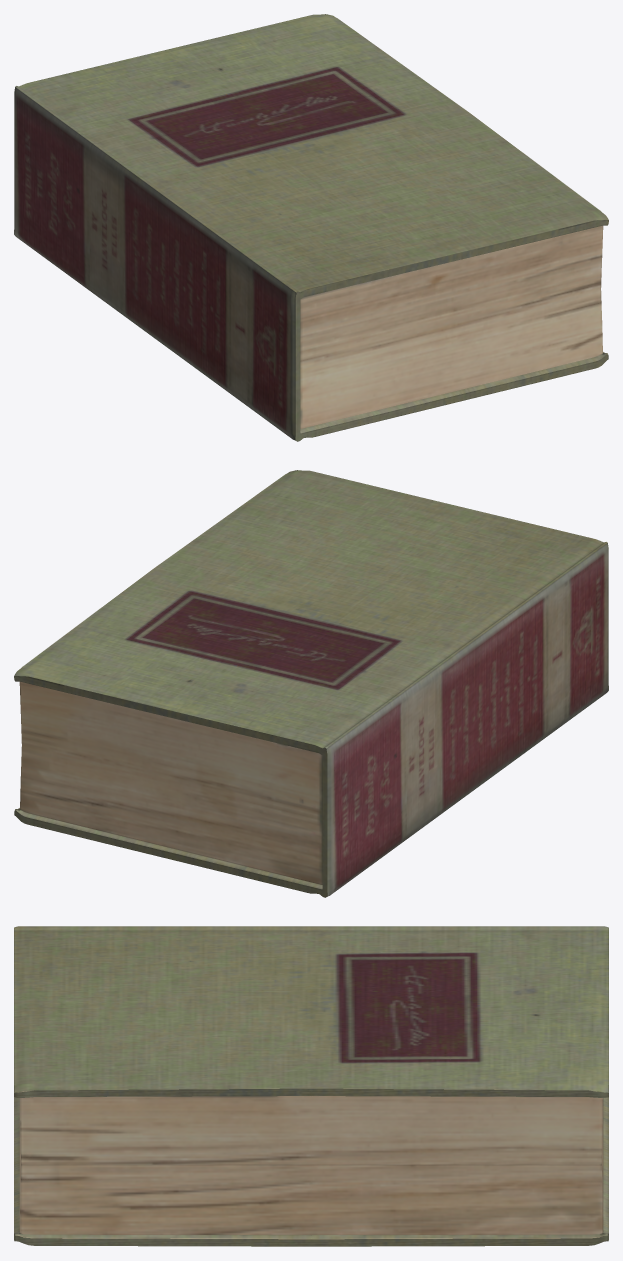
Rendered from Book2.obj.
3 views of the same model, one above another, from view 1: azimuth 30°, elevation 25°; view 2: azimuth 150°, elevation 25°; view 3: azimuth 270°, elevation 25° (orthographic). The views are drawn at different scales.
Visible parts, largest first — view 1: Mesh; view 2: Mesh; view 3: Mesh.
Boxes of the visible parts, x1,y1,x2,y2 form: Mesh: (14, 14, 608, 441); Mesh: (14, 470, 608, 897); Mesh: (14, 926, 608, 1246).
Size of the model in its own units: 0.2857 by 0.1293 by 0.4395.
1 material, 1 textured.
